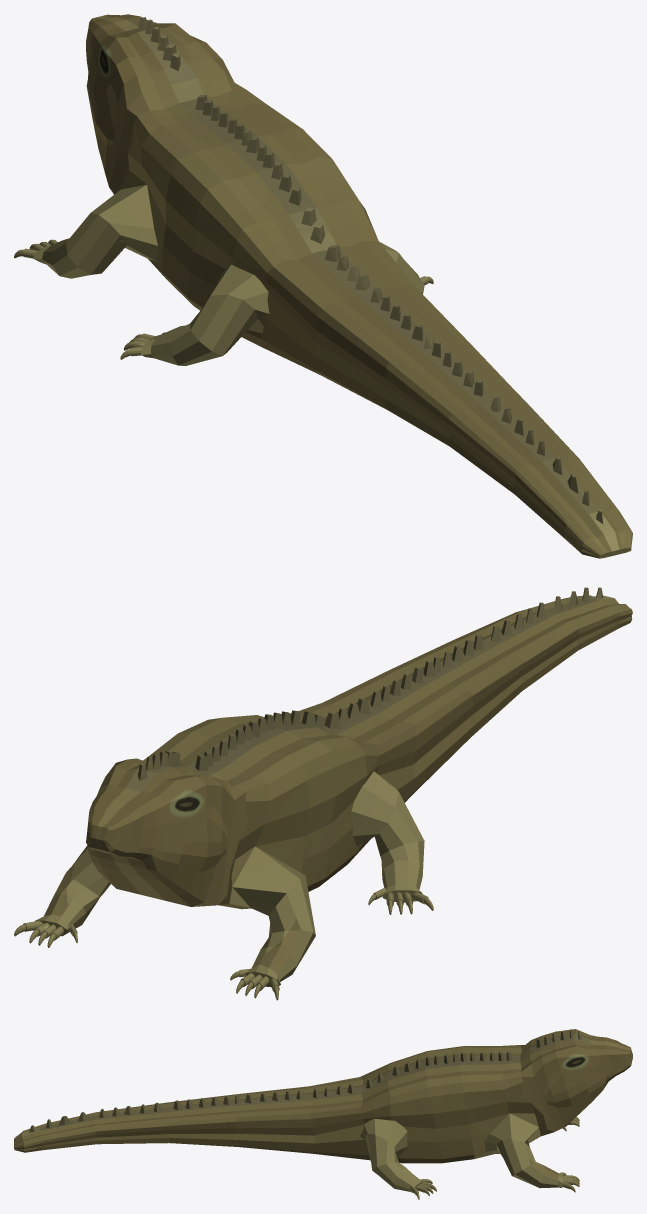
File: Tuatara.fbx
The picture shows the model from 3 angles, top to bottom: view 1: azimuth 30°, elevation 25°; view 2: azimuth 150°, elevation 25°; view 3: azimuth 270°, elevation 25°; orthographic projection. The views are drawn at different scales.
Parts seen in each view (by area): view 1: Cube; view 2: Cube; view 3: Cube.
Boxes of the visible parts, x1,y1,x2,y2 form: Cube: (14, 14, 632, 558); Cube: (14, 587, 632, 1000); Cube: (14, 1029, 632, 1199).
Bounding box in the file's own units: 211 × 137 × 603.
